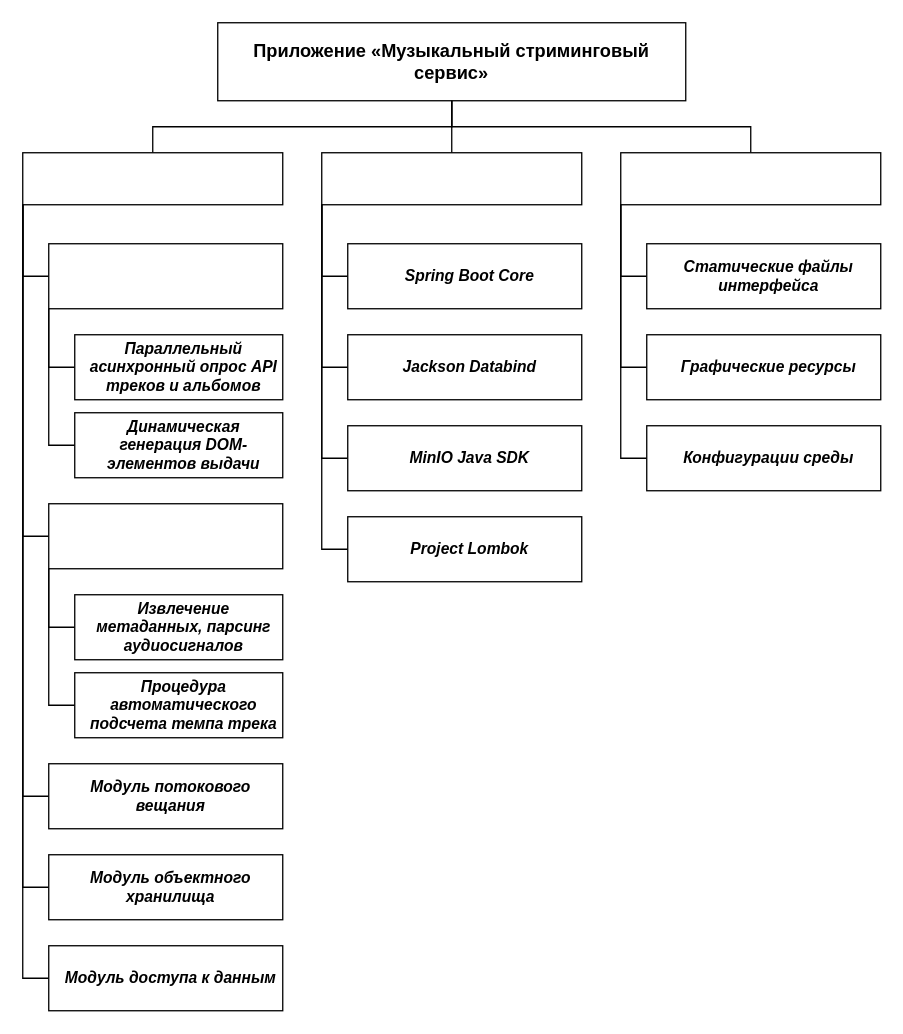
Some shapes in this 903 by 1034 pixel diagram are drawn without their labels. Each missing label, with the centre of its shape:
"Библиотеки" goes at point (451, 178).
"Модули" goes at point (152, 178).
"Модуль глобального поиска и обработки медиаданных" goes at point (165, 275).
"Модуль цифрового анализа аудио" goes at point (165, 535).
"Файлы ресурсов" goes at point (750, 178).
